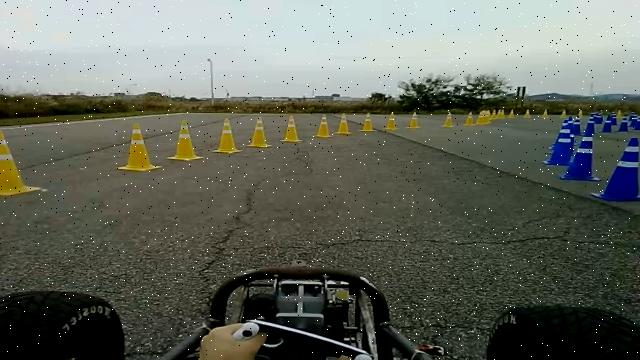blue cone: (591, 137, 640, 201), (559, 121, 602, 181), (232, 322, 260, 340)
yellow cone: (0, 129, 42, 196), (116, 123, 162, 171), (167, 120, 204, 160), (212, 118, 243, 154), (245, 116, 272, 147), (280, 114, 303, 142), (313, 114, 333, 137), (335, 113, 352, 134), (359, 112, 377, 131), (384, 112, 399, 130), (407, 110, 421, 128), (442, 111, 454, 127), (464, 110, 475, 126)
